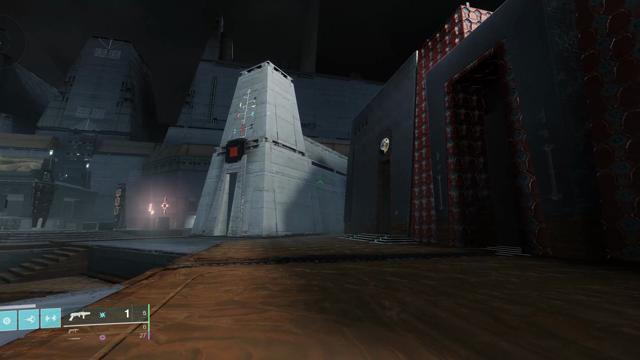brain: (379, 134, 391, 155)
stop: (226, 142, 242, 161)
